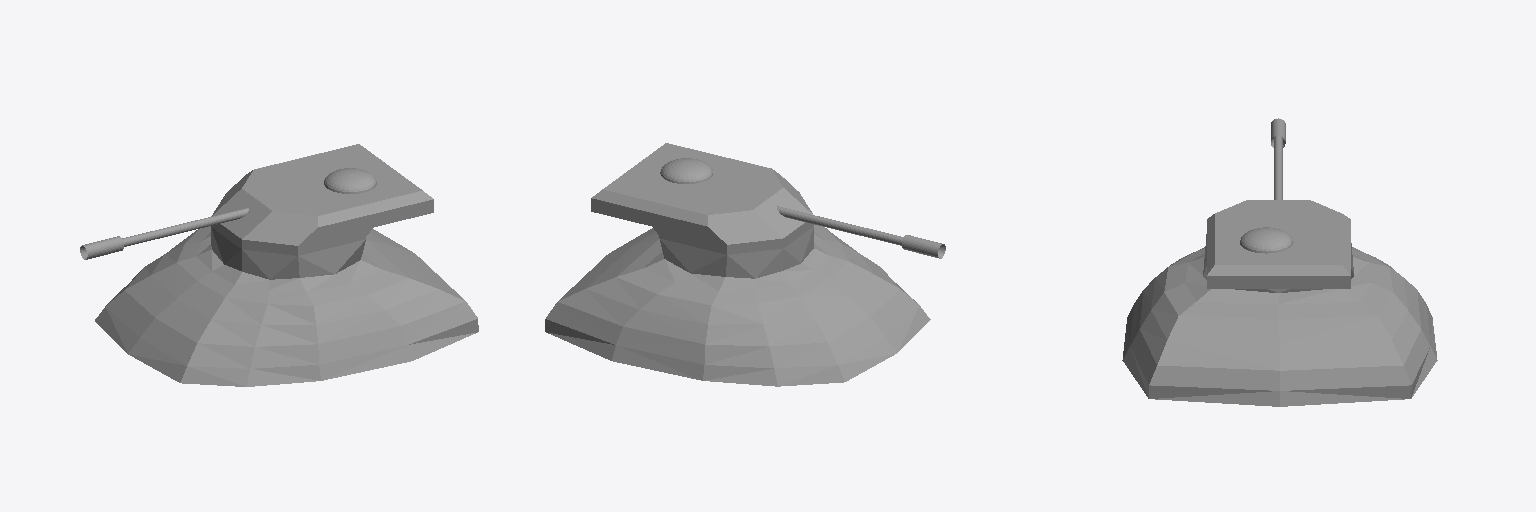
File: tradeFederationTank.obj
3 views of the same model, side by side, from view 1: azimuth 30°, elevation 25°; view 2: azimuth 150°, elevation 25°; view 3: azimuth 270°, elevation 25° (orthographic).
Parts seen in each view (by area): view 1: Cube_Cube.001, Plane; view 2: Cube_Cube.001, Plane; view 3: Cube_Cube.001, Plane.
Part boxes in pixels (left/top/right/bottom): Cube_Cube.001: left=95, top=144, right=478, bottom=386; Plane: left=80, top=208, right=248, bottom=259; Cube_Cube.001: left=545, top=143, right=930, bottom=386; Plane: left=777, top=206, right=945, bottom=258; Cube_Cube.001: left=1122, top=200, right=1437, bottom=406; Plane: left=1271, top=118, right=1285, bottom=199.
Size of the model in its own units: 15 by 5.5 by 11.82.